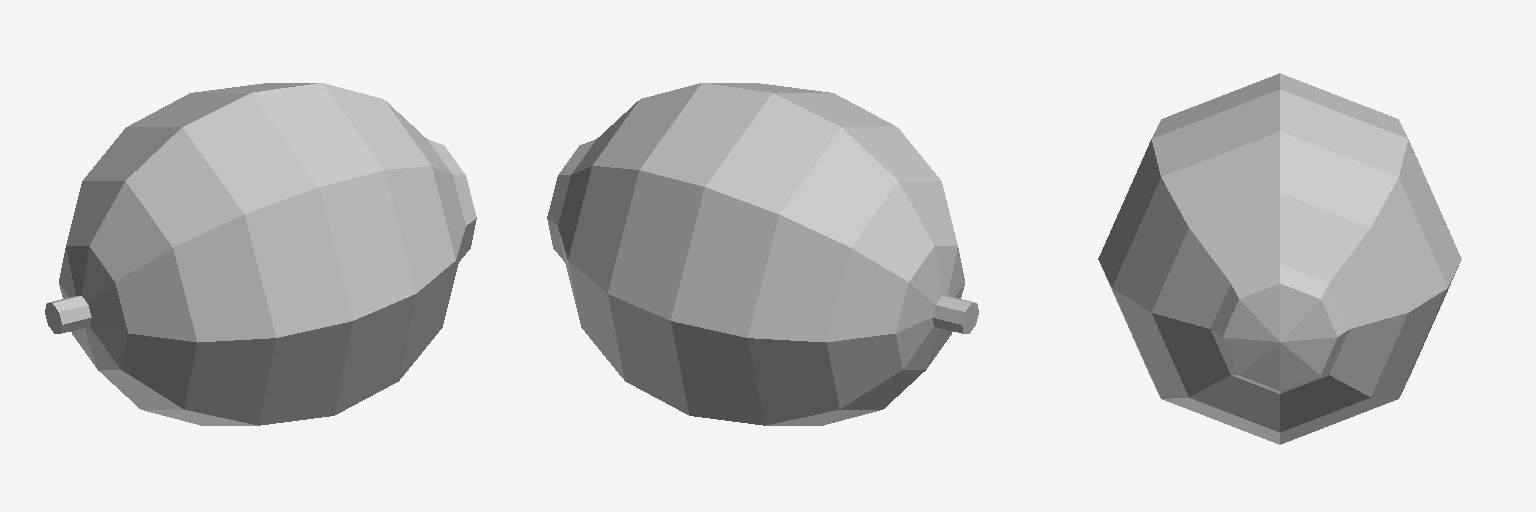
File: Lemon.obj
The picture shows the model from 3 angles: view 1: azimuth 30°, elevation 25°; view 2: azimuth 150°, elevation 25°; view 3: azimuth 270°, elevation 25°; orthographic projection.
Parts seen in each view (by area): view 1: pSphere7; view 2: pSphere7; view 3: pSphere7.
Part boxes in pixels (left/top/right/bottom): pSphere7: left=45, top=83, right=476, bottom=425; pSphere7: left=547, top=83, right=978, bottom=425; pSphere7: left=1098, top=73, right=1461, bottom=444.
Bounding box in the file's own units: 2.59 × 2 × 2.